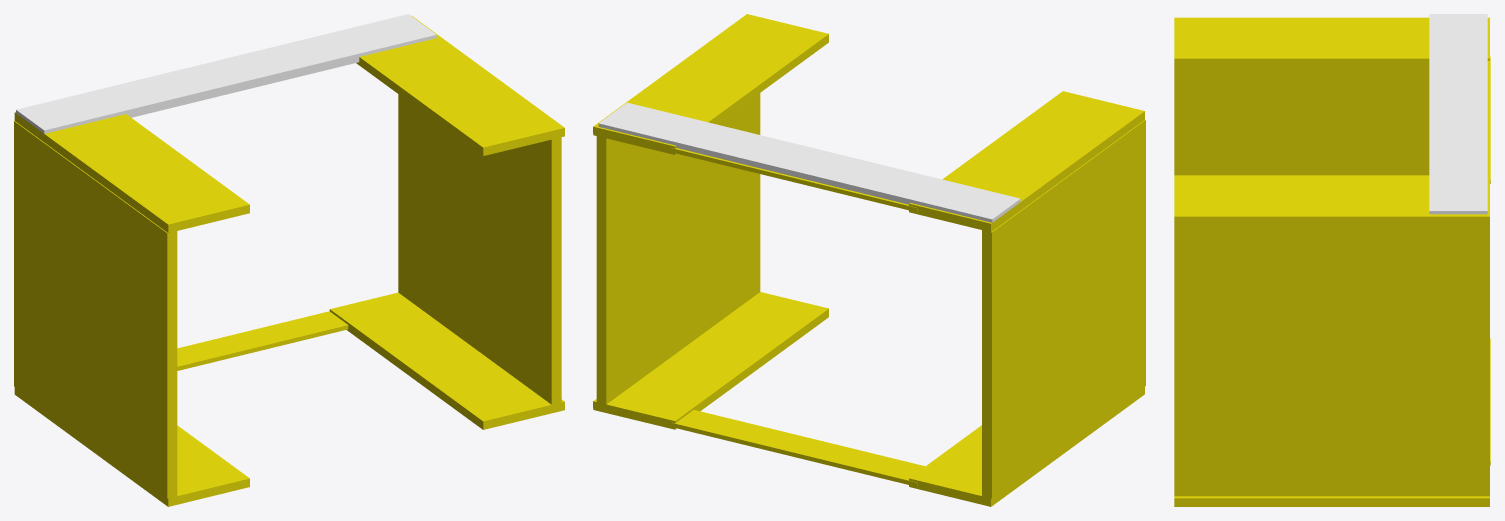
Rendered from phongbanve.fbx.
The picture shows the model from 3 angles, left to right: view 1: azimuth 30°, elevation 25°; view 2: azimuth 150°, elevation 25°; view 3: azimuth 270°, elevation 25°; orthographic projection. The views are drawn at different scales.
Visible parts, largest first — view 1: imagetostl_mesh3, imagetostl_mesh4, imagetostl_mesh8, imagetostl_mesh6, imagetostl_mesh0, imagetostl_mesh1, imagetostl_mesh5, imagetostl_mesh7; view 2: imagetostl_mesh3, imagetostl_mesh4, imagetostl_mesh8, imagetostl_mesh6, imagetostl_mesh0, imagetostl_mesh1, imagetostl_mesh7, imagetostl_mesh5, imagetostl_mesh2; view 3: imagetostl_mesh4, imagetostl_mesh3, imagetostl_mesh1, imagetostl_mesh0, imagetostl_mesh8, imagetostl_mesh6, imagetostl_mesh2.
Boxes of the visible parts, x1=… form: imagetostl_mesh3: x1=14, y1=121, x2=177, y2=498; imagetostl_mesh4: x1=398, y1=94, x2=561, y2=404; imagetostl_mesh8: x1=16, y1=14, x2=436, y2=135; imagetostl_mesh6: x1=329, y1=292, x2=564, y2=429; imagetostl_mesh0: x1=14, y1=112, x2=249, y2=232; imagetostl_mesh1: x1=356, y1=15, x2=564, y2=155; imagetostl_mesh5: x1=14, y1=387, x2=249, y2=506; imagetostl_mesh7: x1=177, y1=311, x2=348, y2=370; imagetostl_mesh3: x1=982, y1=119, x2=1145, y2=498; imagetostl_mesh4: x1=596, y1=93, x2=760, y2=404; imagetostl_mesh8: x1=598, y1=102, x2=1020, y2=222; imagetostl_mesh6: x1=593, y1=292, x2=828, y2=429; imagetostl_mesh0: x1=909, y1=91, x2=1144, y2=232; imagetostl_mesh1: x1=593, y1=14, x2=828, y2=154; imagetostl_mesh7: x1=671, y1=410, x2=924, y2=486; imagetostl_mesh5: x1=909, y1=387, x2=1144, y2=506; imagetostl_mesh2: x1=671, y1=148, x2=917, y2=212; imagetostl_mesh4: x1=1174, y1=225, x2=1489, y2=496; imagetostl_mesh3: x1=1174, y1=67, x2=1429, y2=175; imagetostl_mesh1: x1=1174, y1=175, x2=1489, y2=225; imagetostl_mesh0: x1=1174, y1=17, x2=1489, y2=67; imagetostl_mesh8: x1=1429, y1=14, x2=1487, y2=214; imagetostl_mesh6: x1=1174, y1=496, x2=1489, y2=506; imagetostl_mesh2: x1=1487, y1=56, x2=1490, y2=183.
Size of the model in its own units: 2431 by 1670 by 1628.
